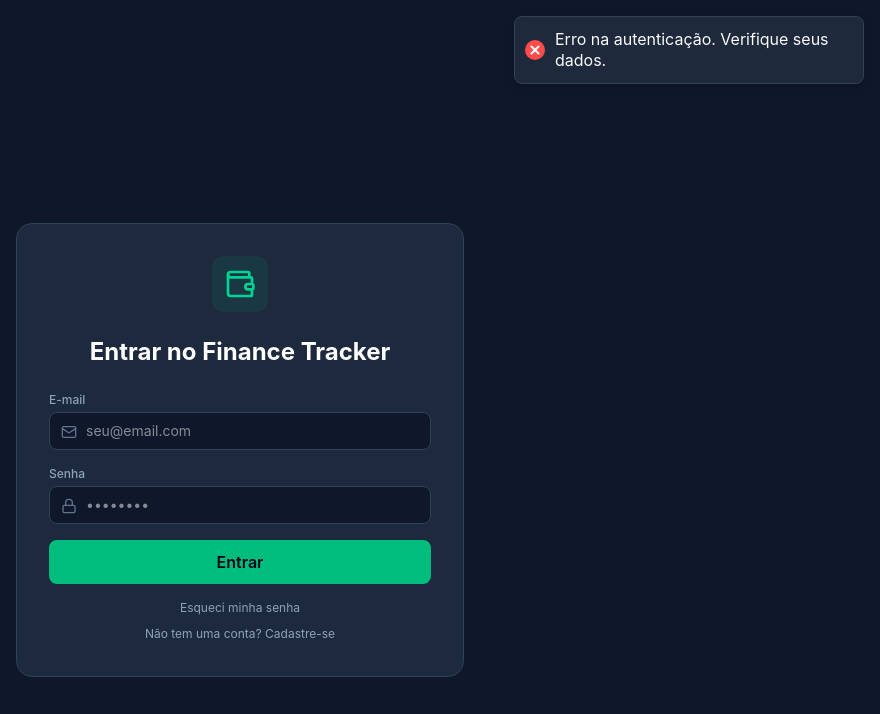
Test case: Auth › cadastro bem-sucedido volta para o login
The image size is (880, 714).
Click the button "Não tem uma conta? Cadastre-se" at (240, 634), box [49,626,431,642]
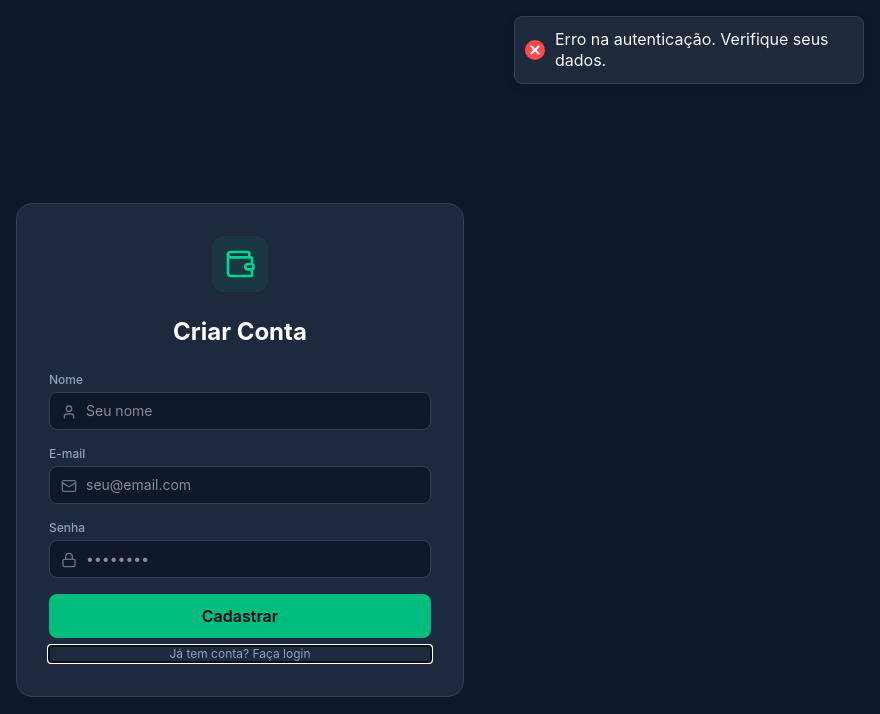
Type "Pedro" into the field labelled "Nome" at (240, 411), box [49,392,431,430]
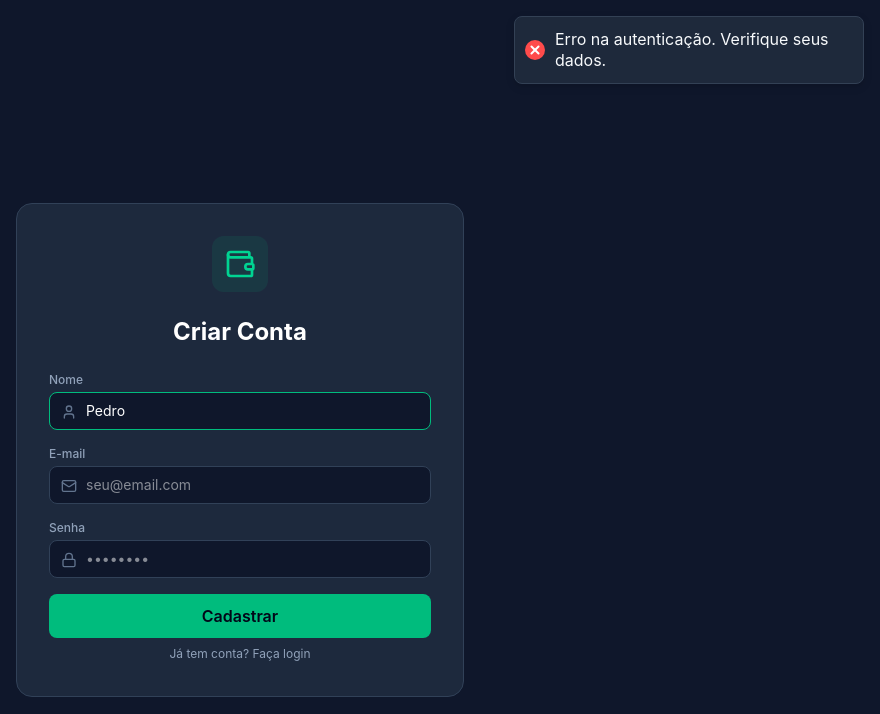
Type "novo@email.com" into the field labelled "E-mail" at (240, 485), box [49,466,431,504]
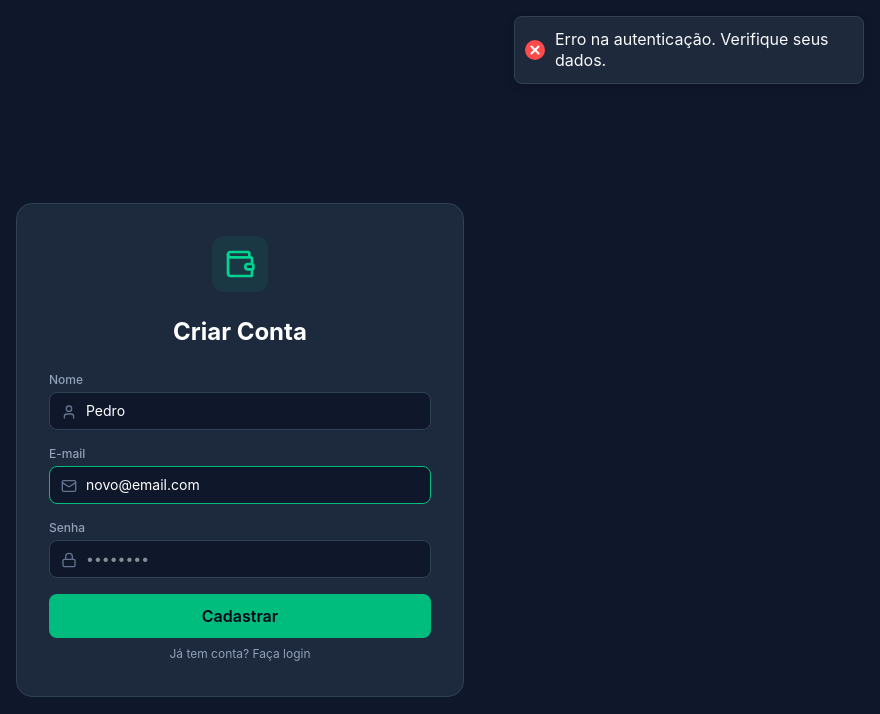
Type "password123" into the password field labelled "Senha" at (240, 559), box [49,540,431,578]
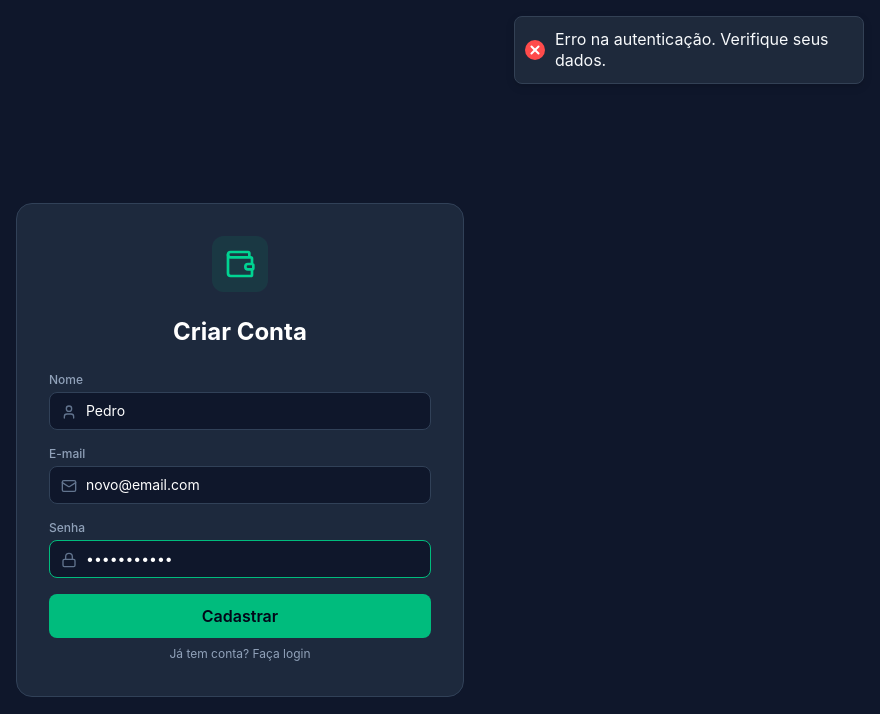
Click the button "Cadastrar" at (240, 616), box [49,594,431,638]
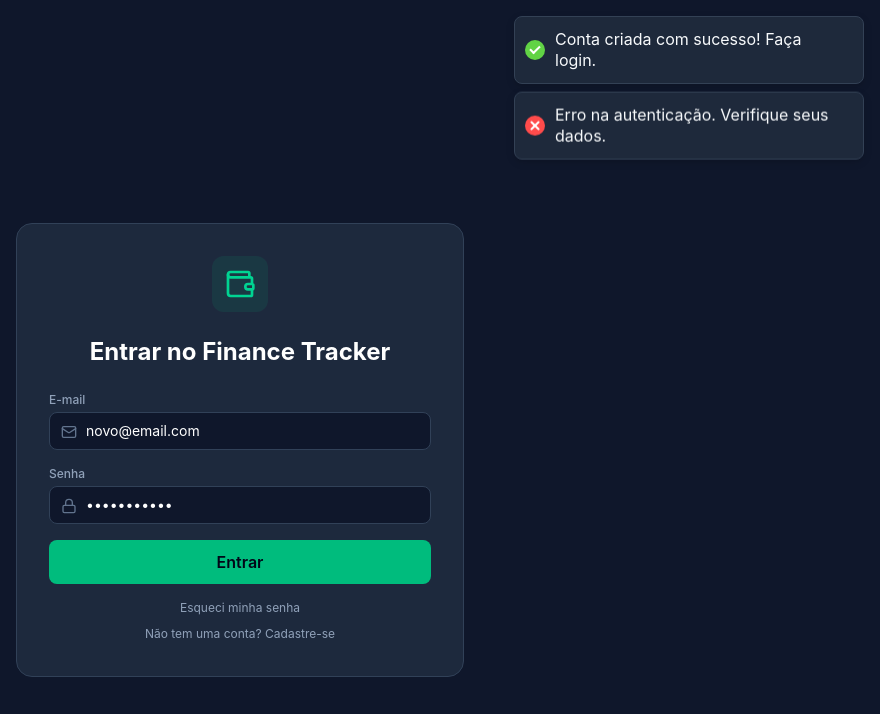
Expected: the button "Entrar" is shown, [49,540,431,584]
Expected: the button "Não tem uma conta? Cadastre-se" is shown, [49,626,431,642]
